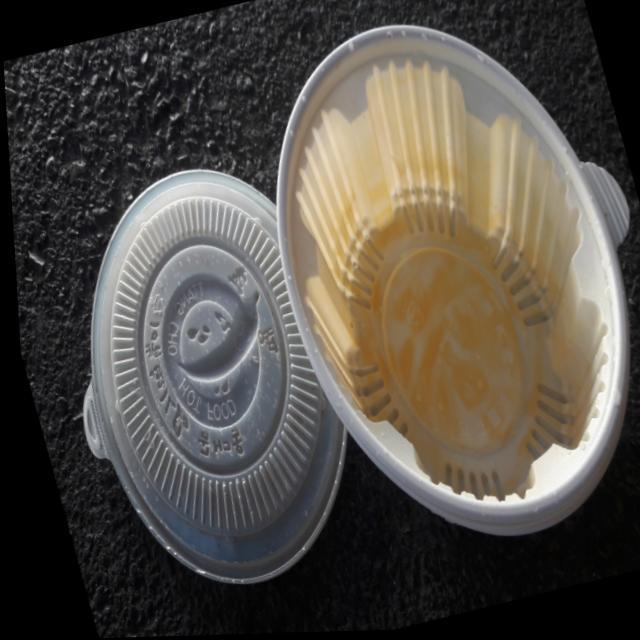disposable: (226, 5, 640, 558)
